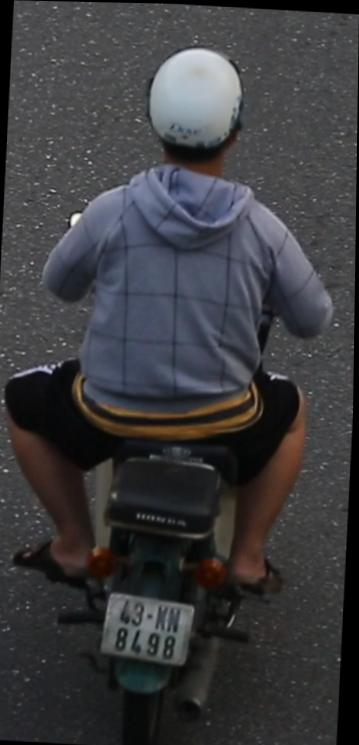LP: (98, 587, 199, 672)
helmet: (141, 35, 254, 190)
